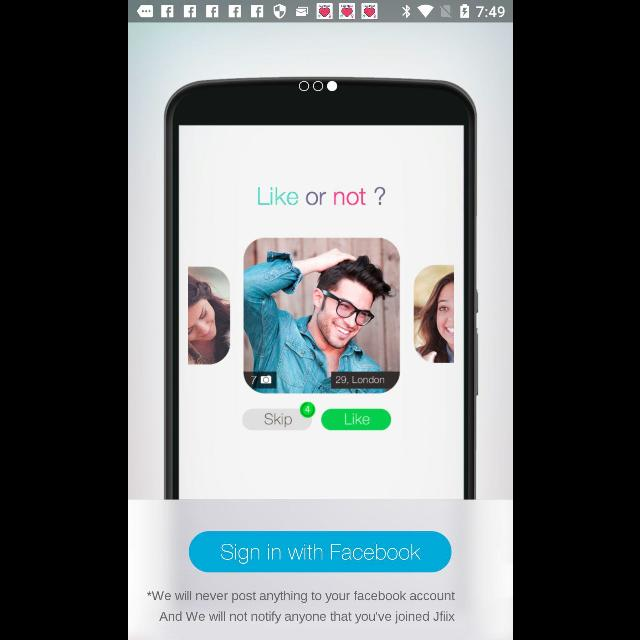image: (162, 77, 478, 500)
pageindicator: (298, 80, 336, 92)
text: (146, 590, 454, 624)
textbutton: (188, 531, 450, 573)
uppertaskbar: (128, 1, 512, 23)
